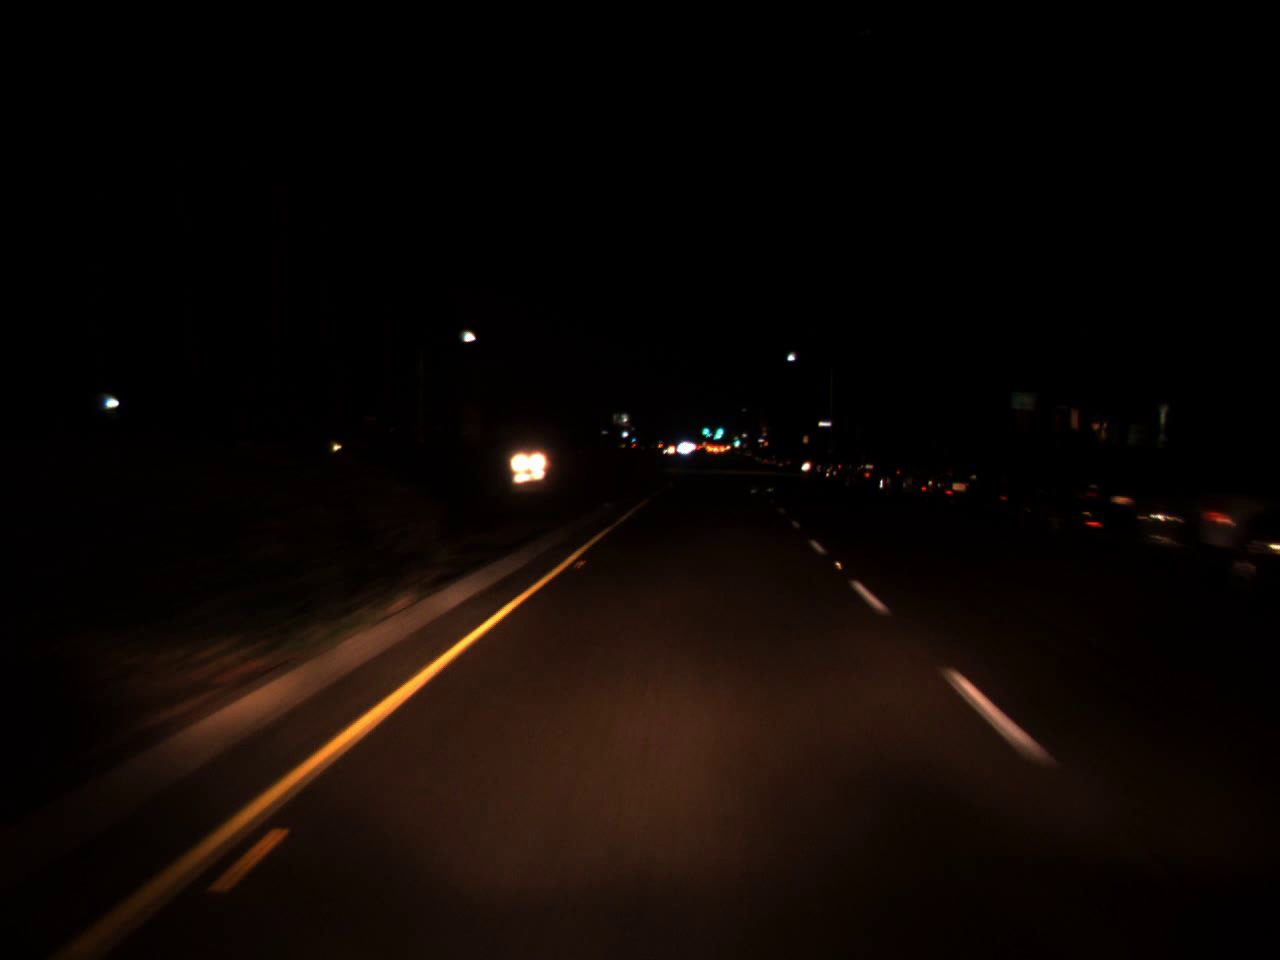go: (701, 418, 711, 439), (715, 418, 724, 439), (731, 434, 741, 446), (630, 432, 637, 444)
